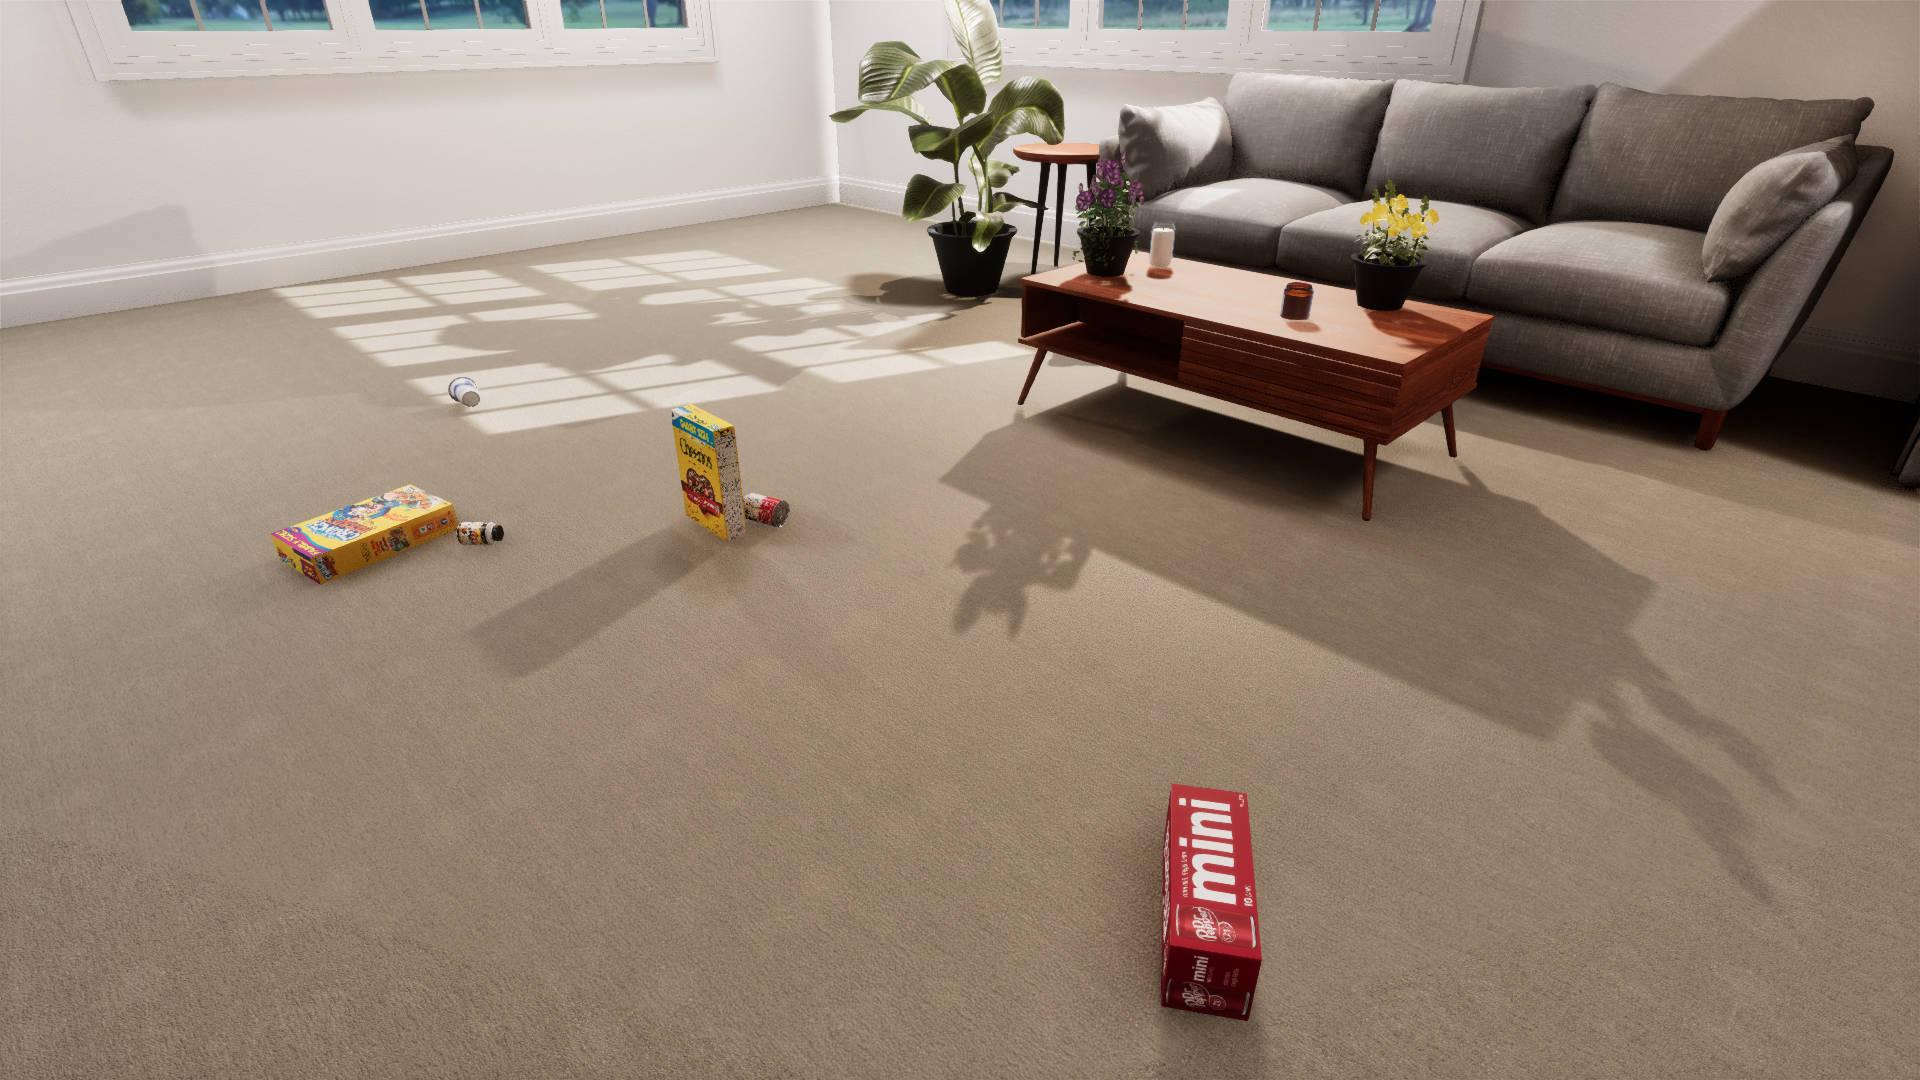cheerios: (920, 748, 1514, 1080)
soup: (862, 695, 998, 816)
